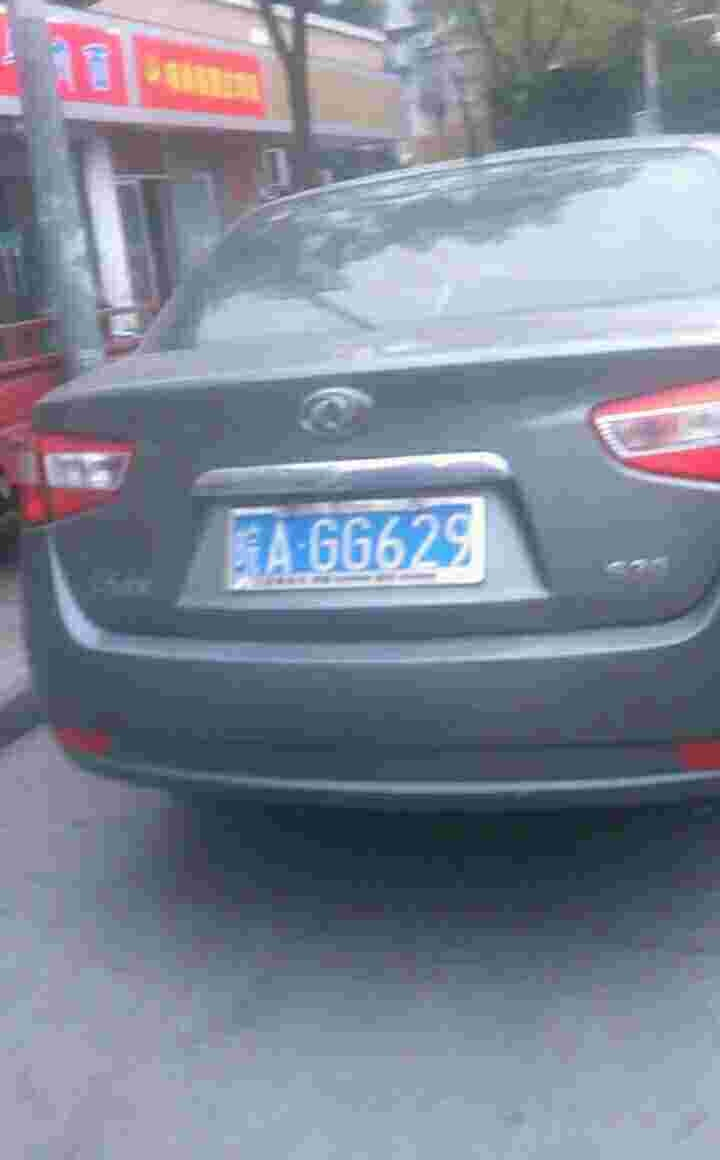license_plate: (235, 501, 486, 580)
